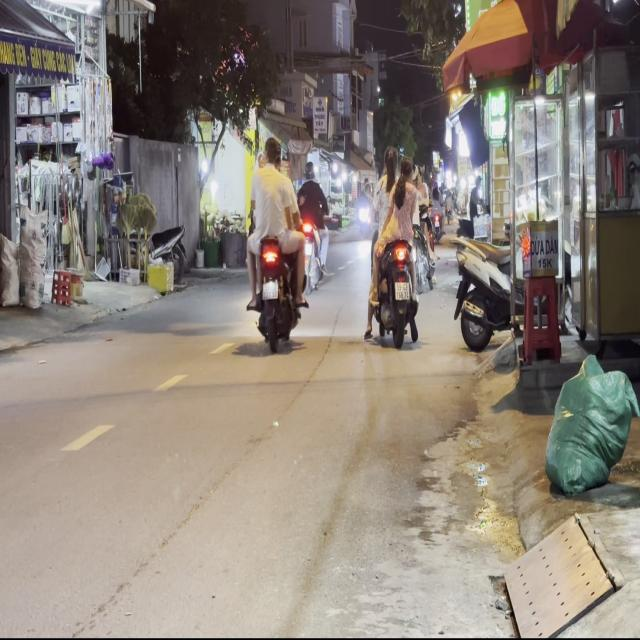licenseplate: (243, 132, 307, 350), (363, 143, 422, 348)
motorcyclist: (262, 134, 280, 166), (382, 144, 399, 177), (398, 154, 413, 182)
nohelmet: (262, 280, 278, 298), (395, 281, 410, 299)
